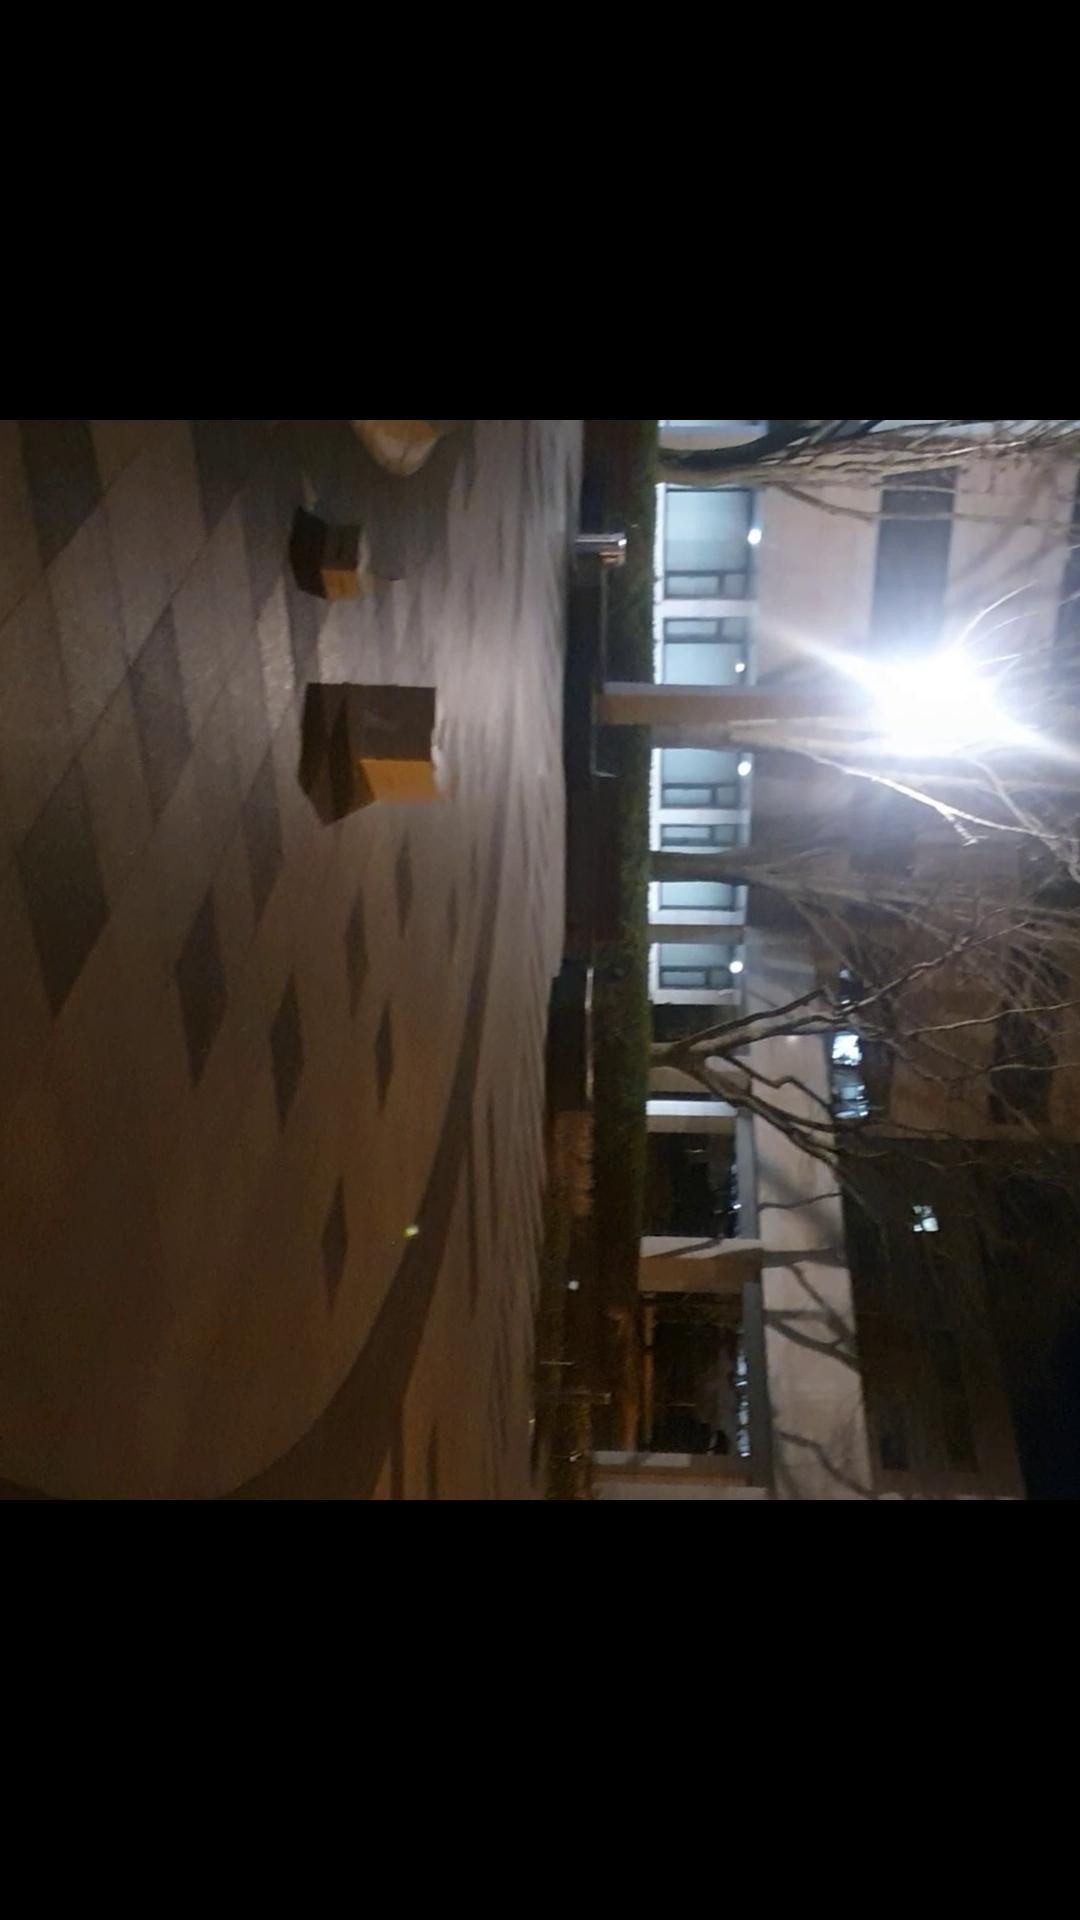Box: (334, 673, 450, 818), (301, 516, 375, 611)
